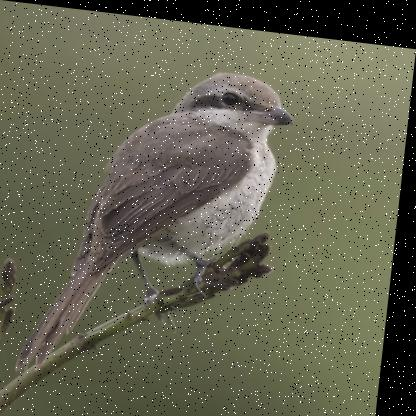Burung: (18, 51, 297, 395)
